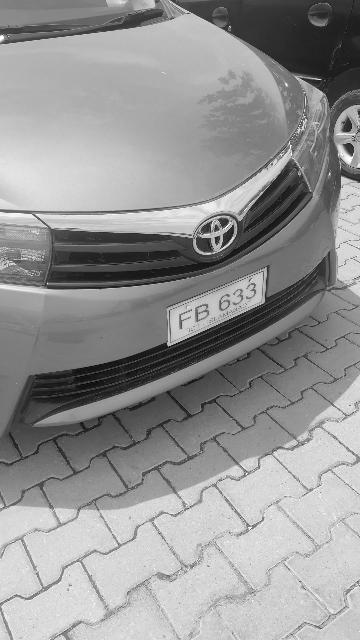Number: (175, 278, 260, 333)
